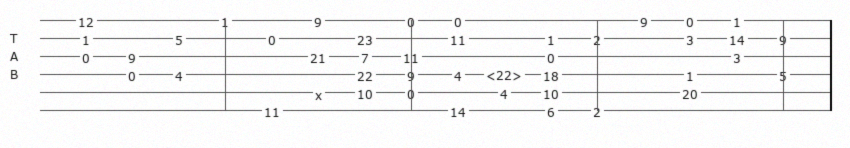0: (82, 50, 94, 63), (128, 68, 140, 81), (268, 32, 280, 45), (407, 14, 419, 27), (407, 86, 419, 99), (454, 14, 466, 27), (547, 50, 559, 63), (686, 14, 698, 27)
1: (82, 32, 94, 45), (221, 14, 233, 27), (547, 32, 559, 45), (686, 68, 698, 81), (733, 14, 745, 27)
10: (357, 86, 377, 99), (543, 86, 563, 99)
11: (264, 104, 284, 117), (403, 50, 423, 63), (450, 32, 470, 45)
12: (78, 14, 98, 27)
14: (450, 104, 470, 117), (729, 32, 749, 45)
18: (543, 68, 563, 81)
2: (593, 104, 605, 117), (593, 32, 605, 45)
20: (682, 86, 702, 99)
21: (310, 50, 330, 63)
22: (357, 68, 377, 81)
23: (357, 32, 377, 45)
3: (686, 32, 698, 45), (733, 50, 745, 63)
4: (175, 68, 187, 81), (454, 68, 466, 81), (500, 86, 512, 99)
5: (175, 32, 187, 45), (779, 68, 791, 81)
6: (547, 104, 559, 117)
7: (361, 50, 373, 63)
9: (128, 50, 140, 63), (314, 14, 326, 27), (407, 68, 419, 81), (640, 14, 652, 27), (779, 32, 791, 45)
harmonic: (486, 67, 526, 81)
x: (315, 87, 326, 98)
